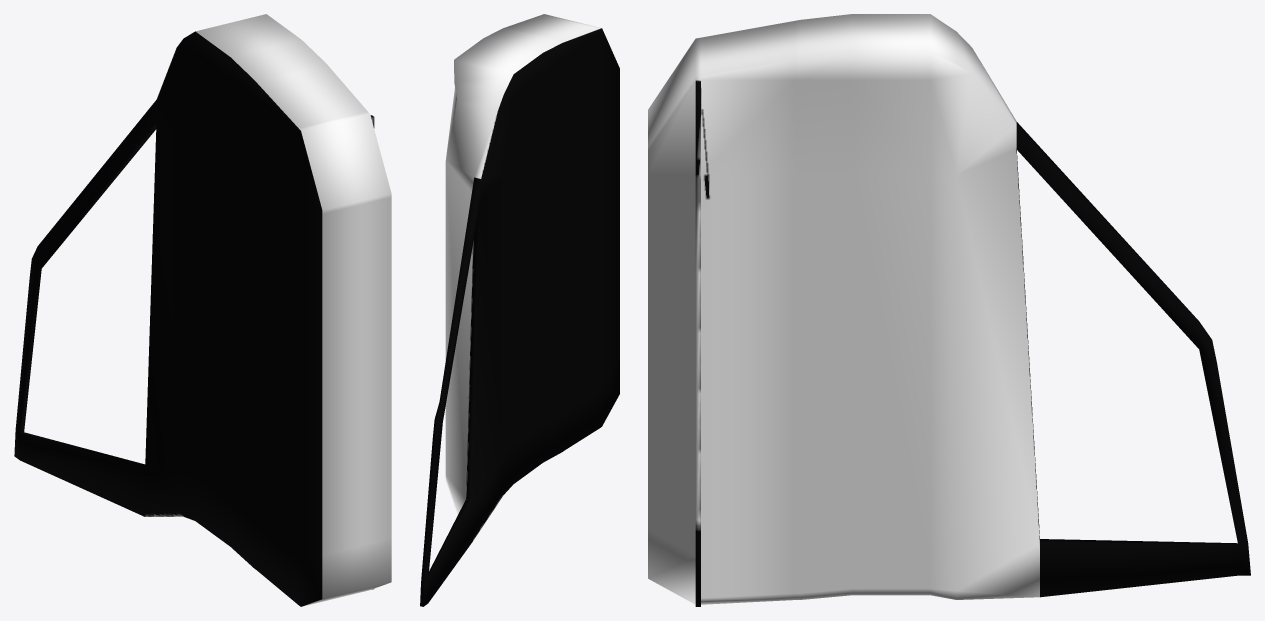
File: Car 1A FDoor Left.fbx
3 renders of one model, left to right at view 1: azimuth 30°, elevation 25°; view 2: azimuth 150°, elevation 25°; view 3: azimuth 270°, elevation 25°, orthographic. The views are drawn at different scales.
Visible parts, largest first — view 1: 1AU FDoor (3, Baked); view 2: 1AU FDoor (3, Baked); view 3: 1AU FDoor (3, Baked).
Part boxes in pixels (box(x1,y1,x2,y2)): 1AU FDoor (3, Baked): box(14, 14, 391, 606); 1AU FDoor (3, Baked): box(420, 14, 619, 606); 1AU FDoor (3, Baked): box(648, 14, 1250, 606).
Size of the model in its own units: 27 by 123 by 115.
